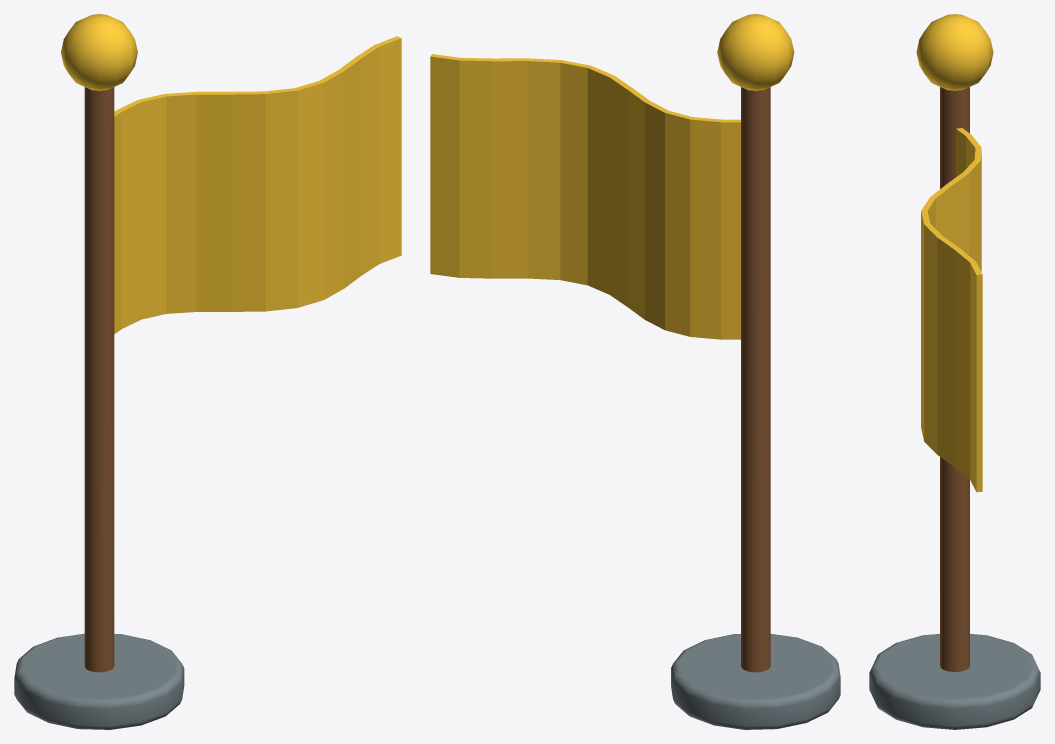
File: COM-FLAG-01.glb
3 views of the same model, side by side, from view 1: azimuth 30°, elevation 25°; view 2: azimuth 150°, elevation 25°; view 3: azimuth 270°, elevation 25° (orthographic).
Parts seen in each view (by area): view 1: cloth, flagpole, stand, finial; view 2: cloth, flagpole, stand, finial; view 3: cloth, stand, flagpole, finial.
Boxes of the visible parts, x1,y1,x2,y2 form: cloth: (114,36,401,334); flagpole: (84,87,114,672); stand: (14,633,184,729); finial: (61,14,137,90); cloth: (430,54,740,339); flagpole: (741,87,770,672); stand: (671,634,840,729); finial: (717,14,794,90); cloth: (921,128,982,492); stand: (869,634,1040,729); flagpole: (940,87,969,671); finial: (916,14,993,90).
Bounding box in the file's own units: 1.04 × 1.75 × 0.4.
